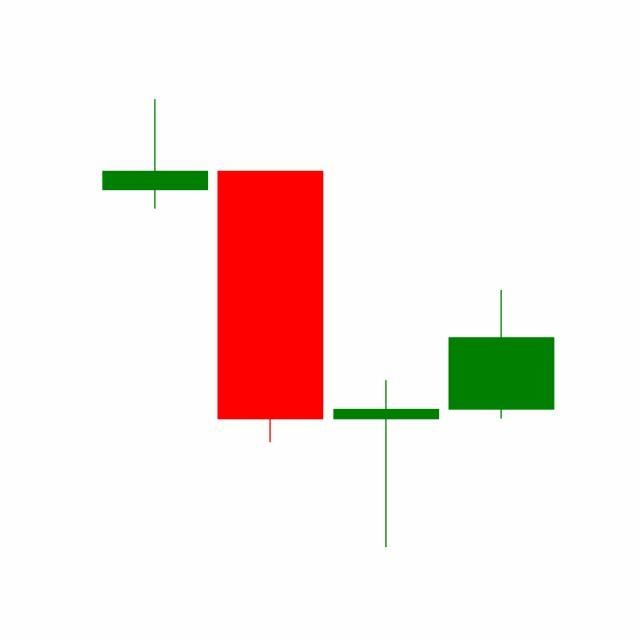Spinning Top: (329, 379, 445, 551)
